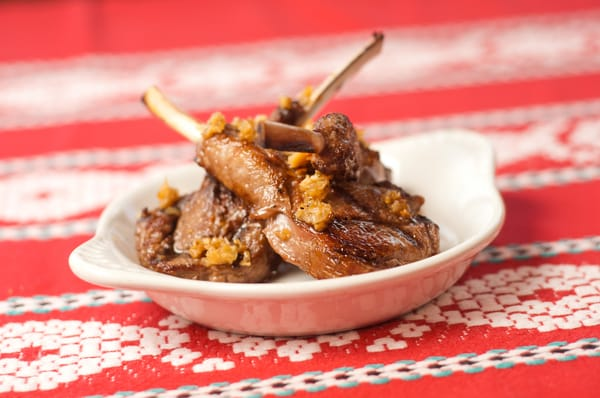sushi: (22, 108, 507, 338)
